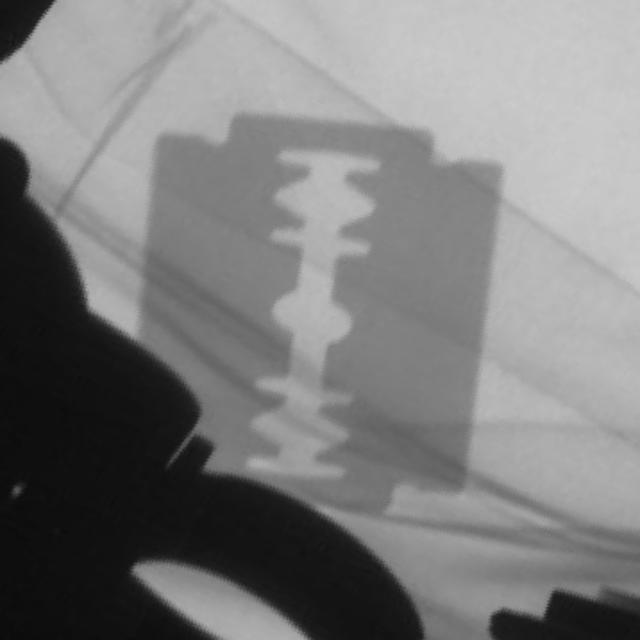razor: (136, 90, 502, 526)
